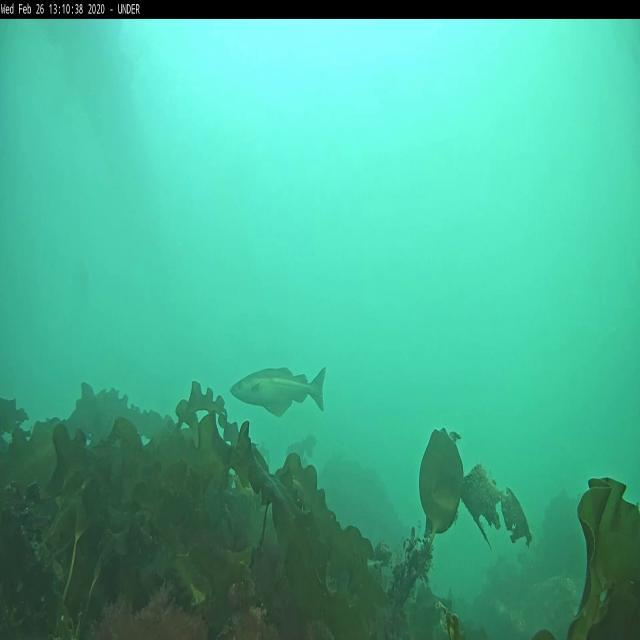fish: (230, 367, 326, 419)
